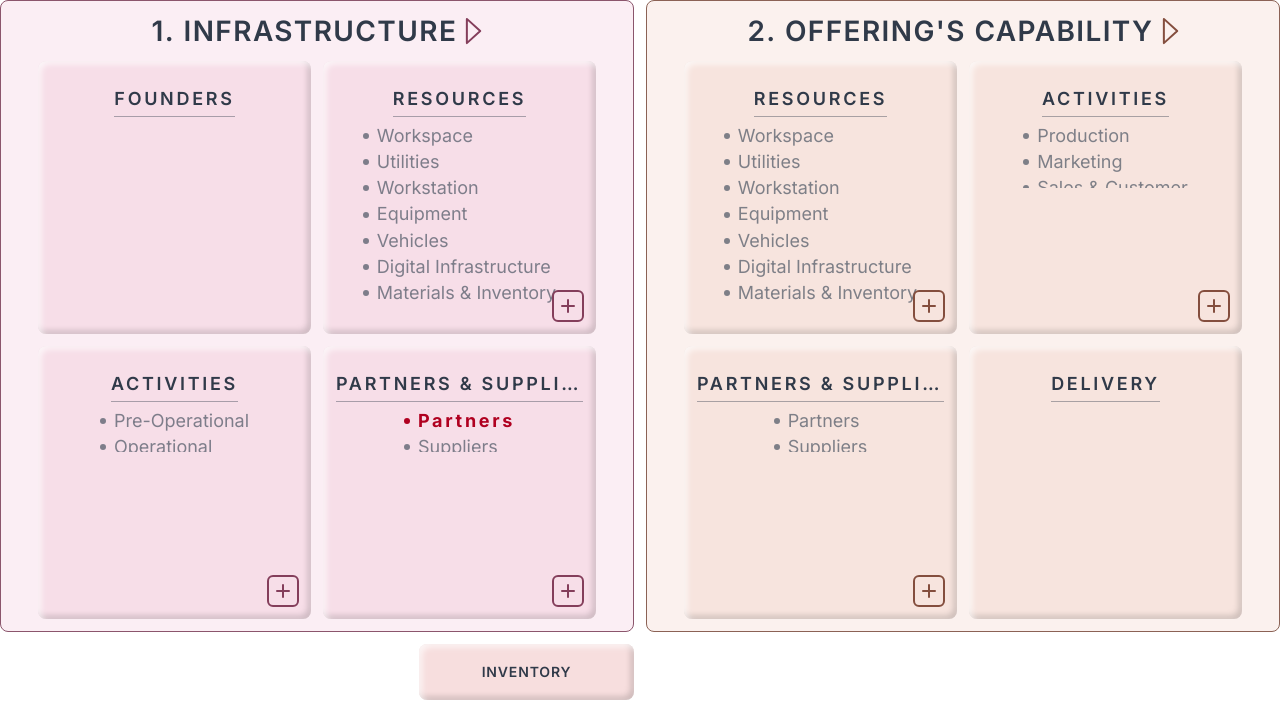
Test: Start date and End date, straight after the name › a partner card asks for both
Step 1. Click the button "Partners & Suppliers" below "1." → (460, 387), box left=323, top=346, right=596, bottom=619
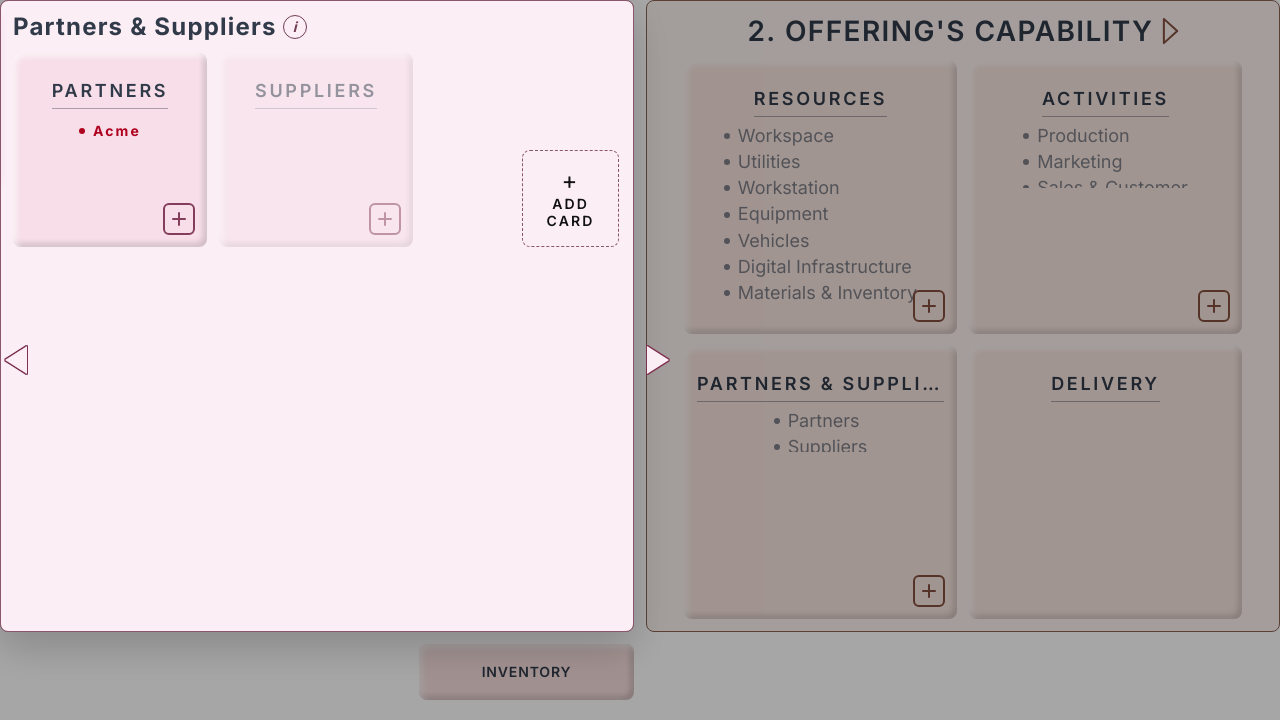
Step 2. Click the button with class "section-tile" showing "Partners" → (110, 150), box left=13, top=53, right=207, bottom=247
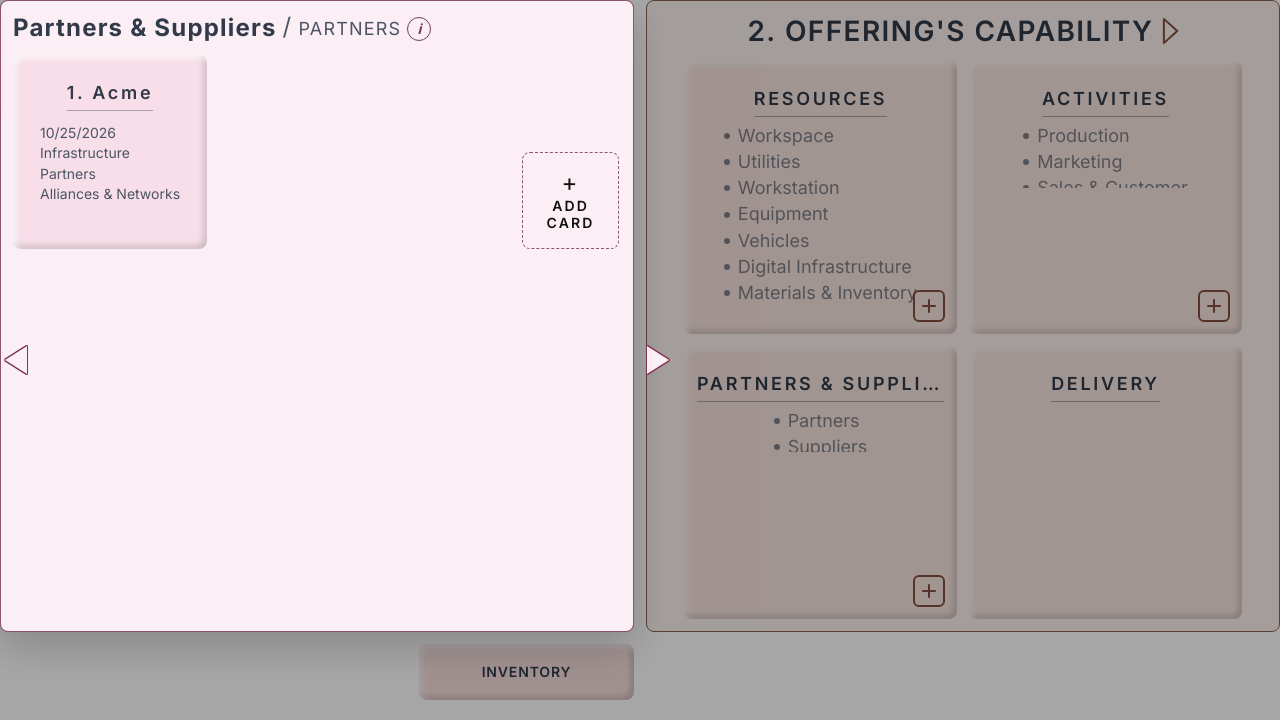
Step 3. Click the button with class "card-tile" → (110, 152), box left=13, top=55, right=207, bottom=249
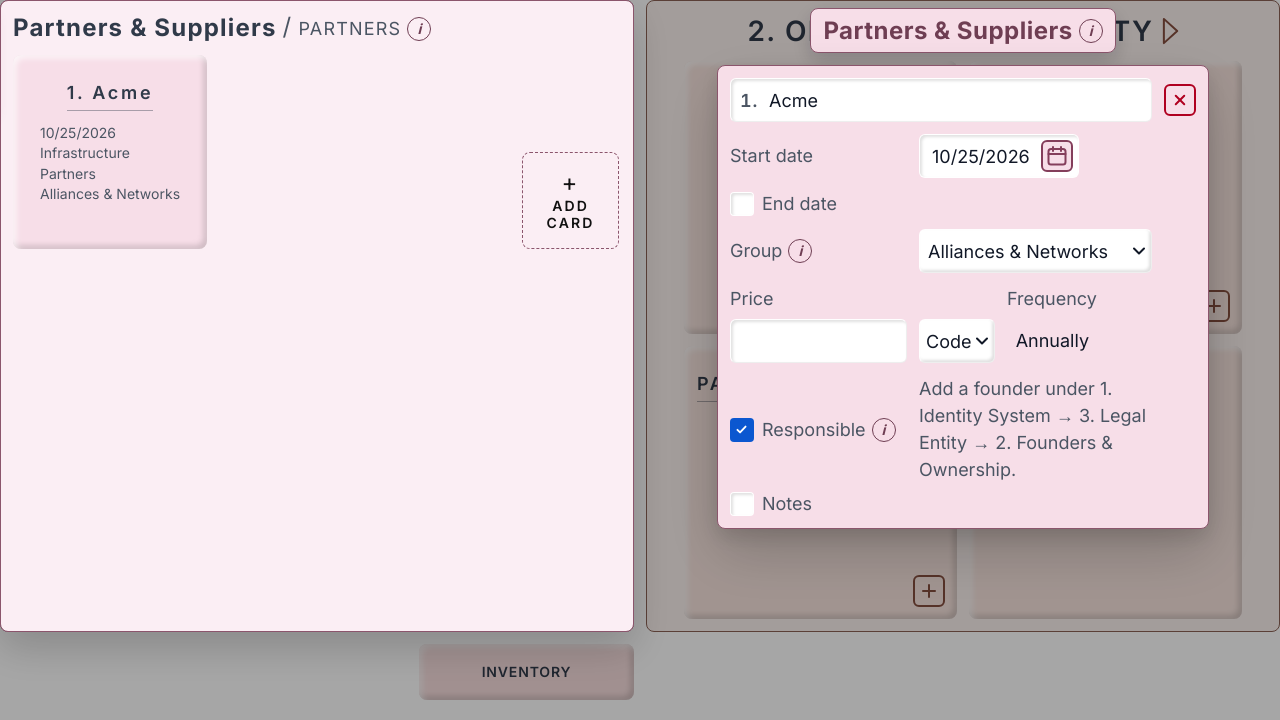
Step 4. Replace the text in the field named "Acme start date" with "01/02/2027" → (999, 156), box left=919, top=134, right=1079, bottom=178
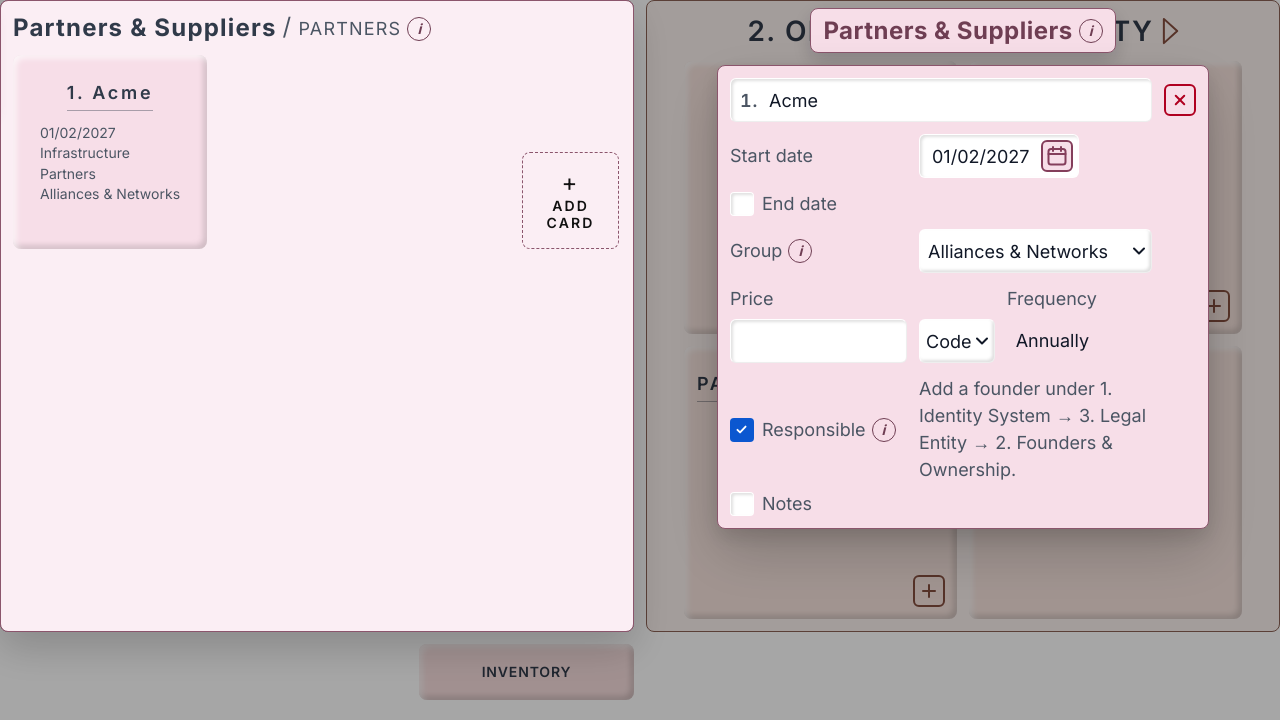
Step 5. Click the checkbox named "Acme has an end date" → (742, 204), box left=730, top=192, right=754, bottom=216
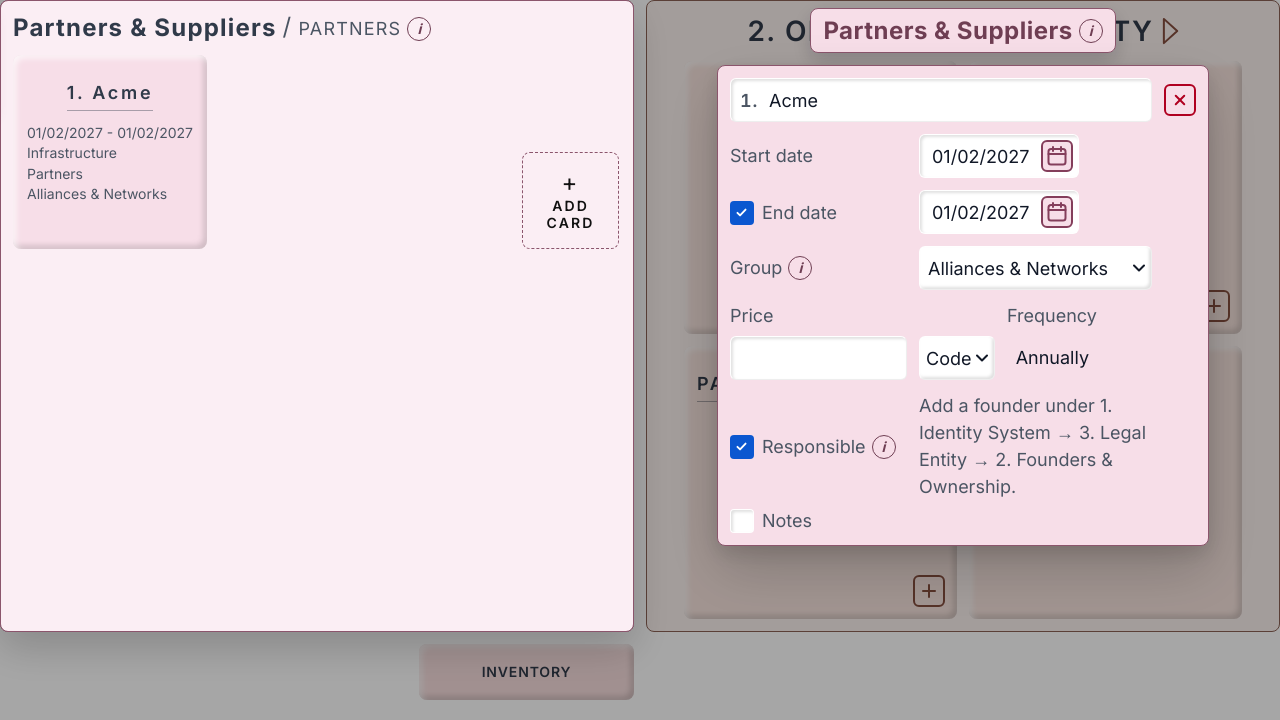
Expected: the field named "Acme end date" is shown, left=919, top=190, right=1079, bottom=234
